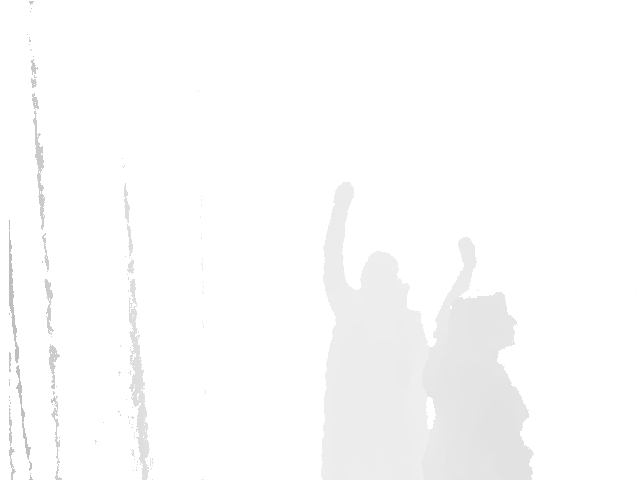hand: (458, 237, 477, 272), (333, 182, 356, 210)
head: (450, 292, 517, 362), (358, 252, 399, 305)
person: (319, 182, 431, 479), (422, 237, 534, 480)
